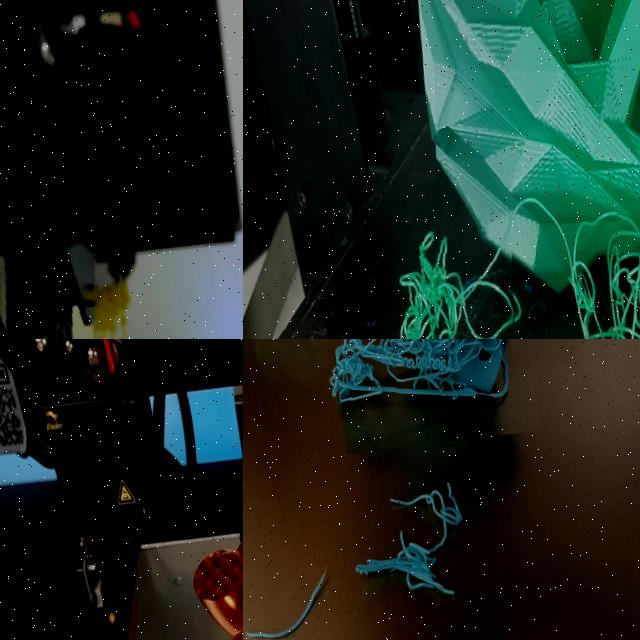spaghetti: (320, 339, 556, 453), (342, 474, 500, 624), (389, 234, 516, 339), (565, 215, 640, 339), (243, 566, 347, 640)
